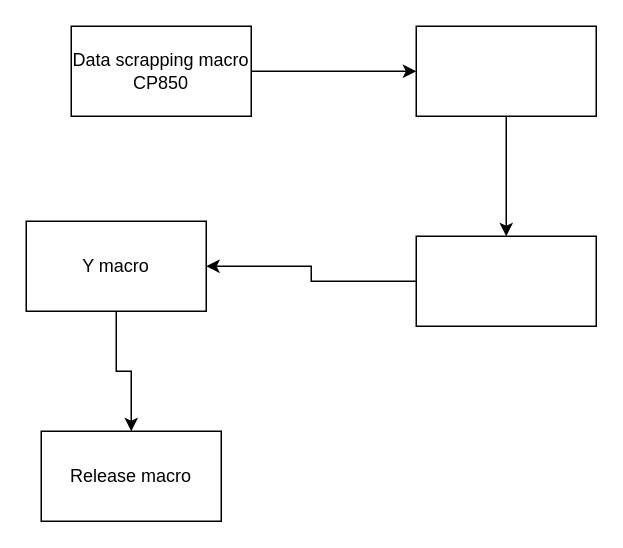
Some shapes in this 623 by 548 pixel diagram are drawn without their labels. Each missing label, with the centre of its shape:
"Data source" belongs at pixel 505 70.
"Process X" belongs at pixel 505 280.
